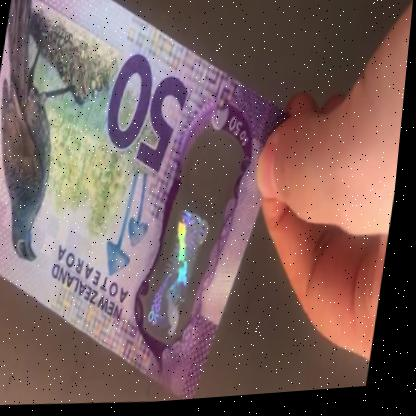50B: (144, 156, 229, 346)
